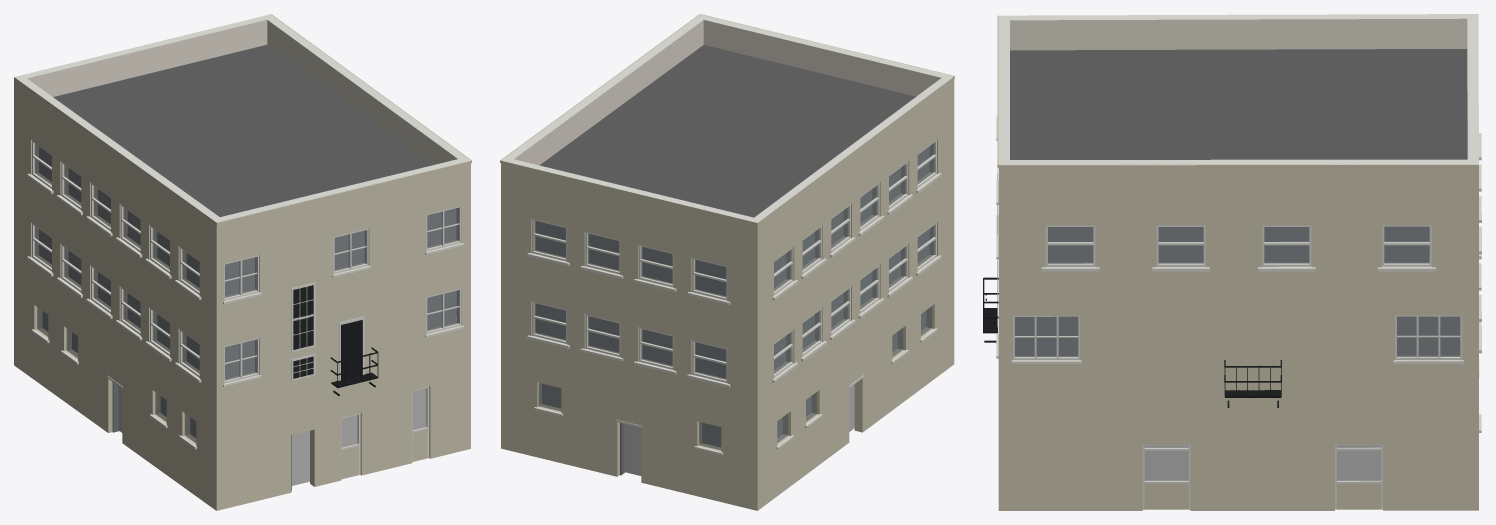
Rendered from exterior.glb.
3 renders of one model, left to right at view 1: azimuth 30°, elevation 25°; view 2: azimuth 150°, elevation 25°; view 3: azimuth 270°, elevation 25°, orthographic. The views are drawn at different scales.
Parts seen in each view (by area): view 1: shell, roof, glazing, shadow-proxy, frames, relief-3, trim, storefront, fire-escape-landing-3; view 2: shell, roof, glazing, shadow-proxy, frames, trim; view 3: shell, roof, glazing, shadow-proxy, frames, storefront, trim, relief-0, fire-escape-landing-0, fire-escape-landing-3.
Boxes of the visible parts, x1,y1,x2,y2 form: shell: [14, 14, 470, 510]; roof: [53, 45, 431, 216]; glazing: [35, 144, 458, 447]; shadow-proxy: [39, 147, 455, 485]; frames: [32, 141, 461, 383]; relief-3: [216, 160, 471, 381]; trim: [27, 173, 464, 449]; storefront: [107, 375, 429, 490]; fire-escape-landing-3: [330, 347, 378, 395]; shell: [501, 14, 954, 510]; roof: [539, 45, 915, 217]; glazing: [534, 143, 933, 450]; shadow-proxy: [536, 147, 929, 475]; frames: [532, 140, 936, 382]; trim: [527, 173, 941, 455]; shell: [998, 14, 1478, 510]; roof: [1010, 49, 1467, 159]; glazing: [1015, 226, 1460, 480]; shadow-proxy: [1015, 227, 1459, 480]; frames: [1013, 225, 1462, 359]; storefront: [1142, 359, 1479, 509]; trim: [996, 116, 1481, 432]; relief-0: [998, 164, 1478, 168]; fire-escape-landing-0: [1224, 360, 1281, 407]; fire-escape-landing-3: [983, 277, 998, 342].
Bounding box in the file's own units: 11.29 × 11.52 × 15.04.
